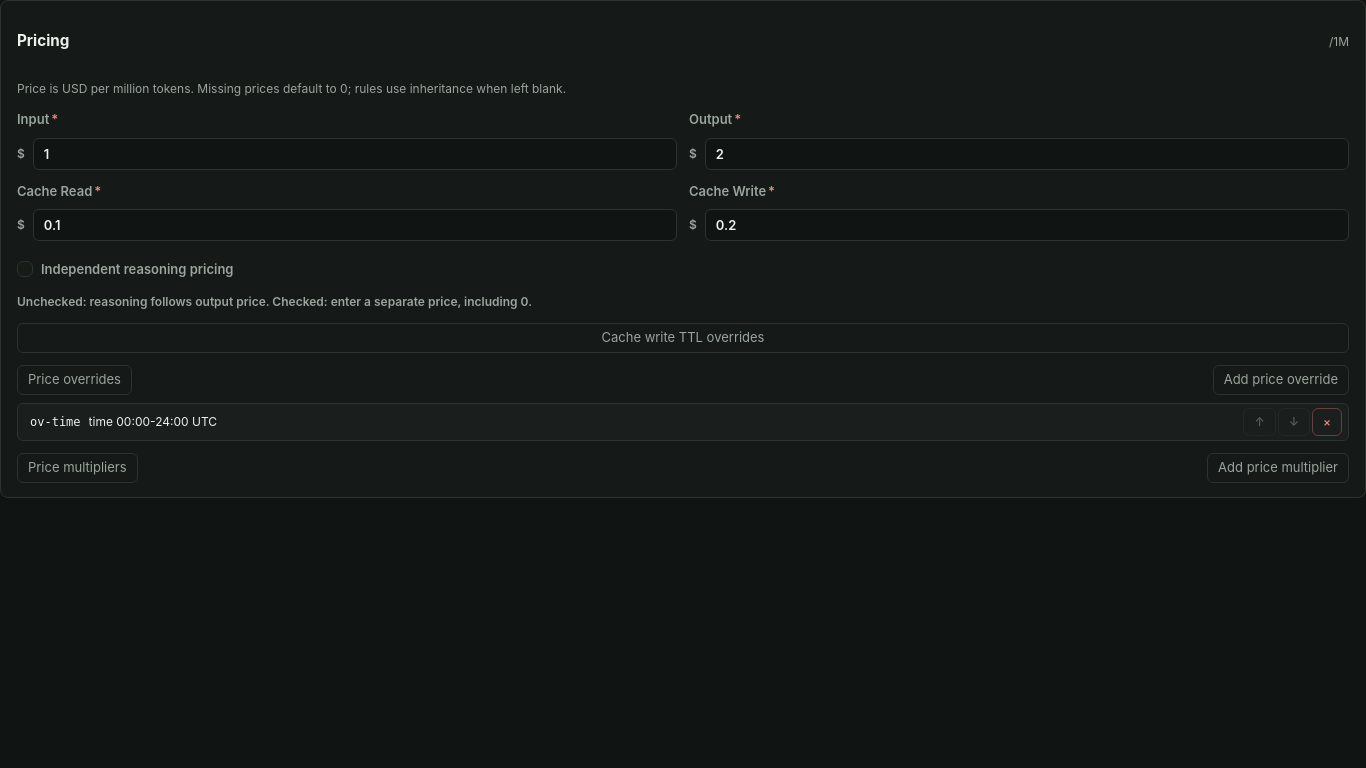
Test case: ModelPricingEditor source controls › shows and edits end 24:00 without changing the draft while merely previewing
Click the button "ov-time time 00:00-24:00 UTC": (55, 422) [24, 412, 1235, 432]
(page scrolled)
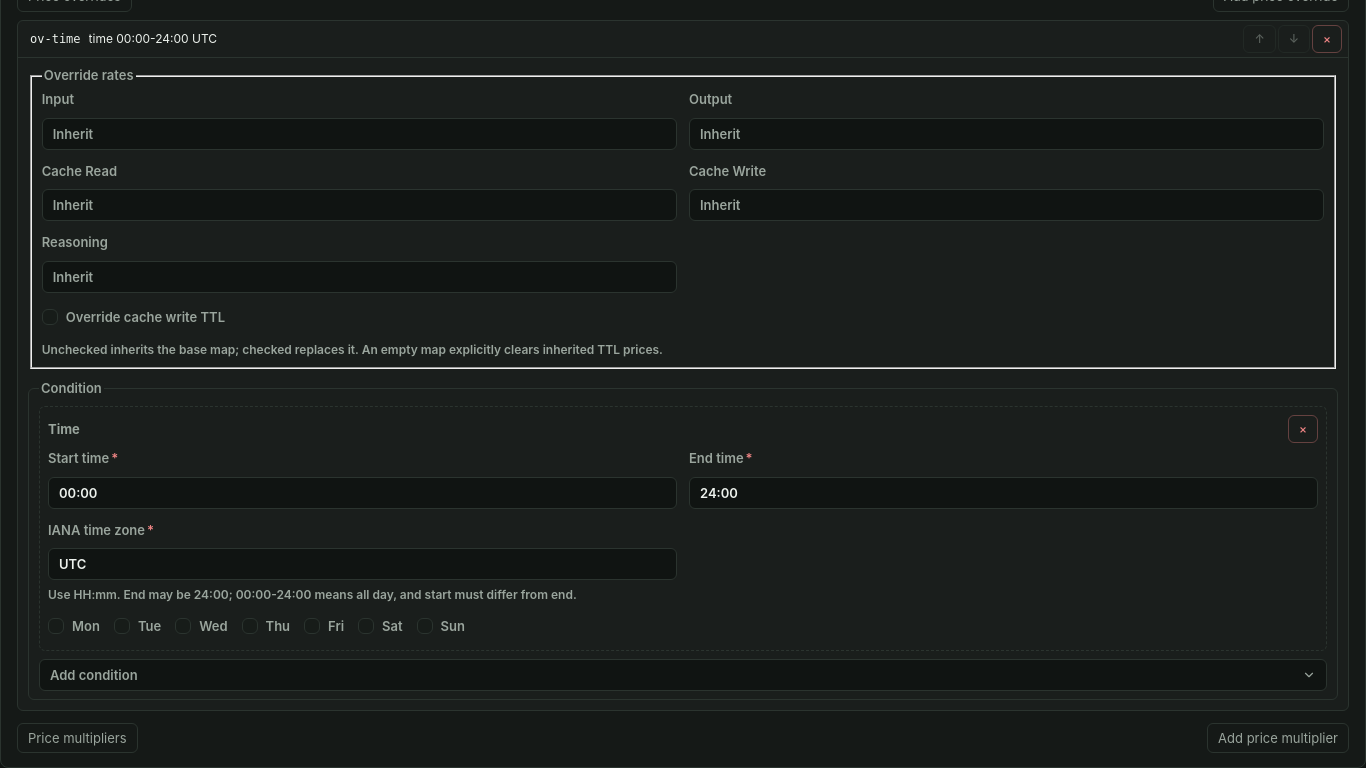
Result: the field labelled "Start time" holds "00:00" at [48, 477, 677, 509]
Result: the field labelled "End time" holds "24:00" at [689, 477, 1318, 509]
